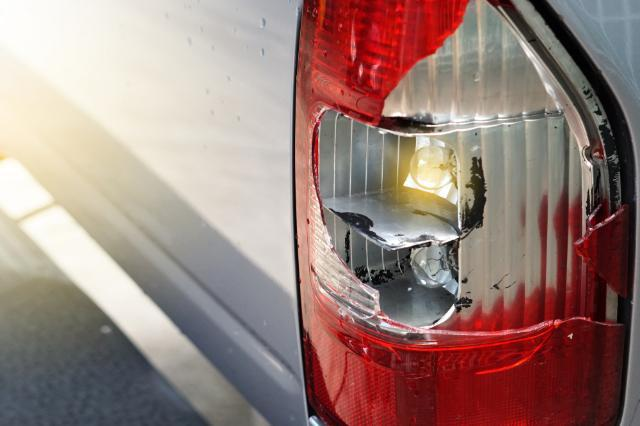lamp broken: (293, 0, 636, 426)
